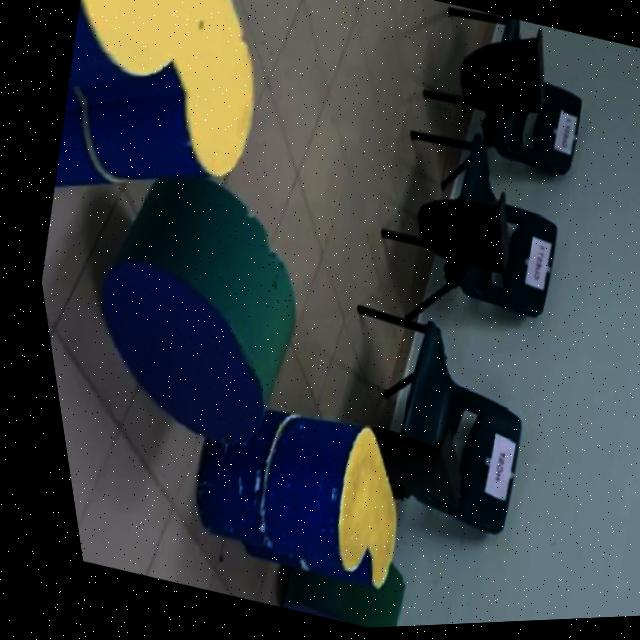sandalye: (347, 309, 505, 538), (373, 135, 547, 321), (419, 13, 576, 180)
